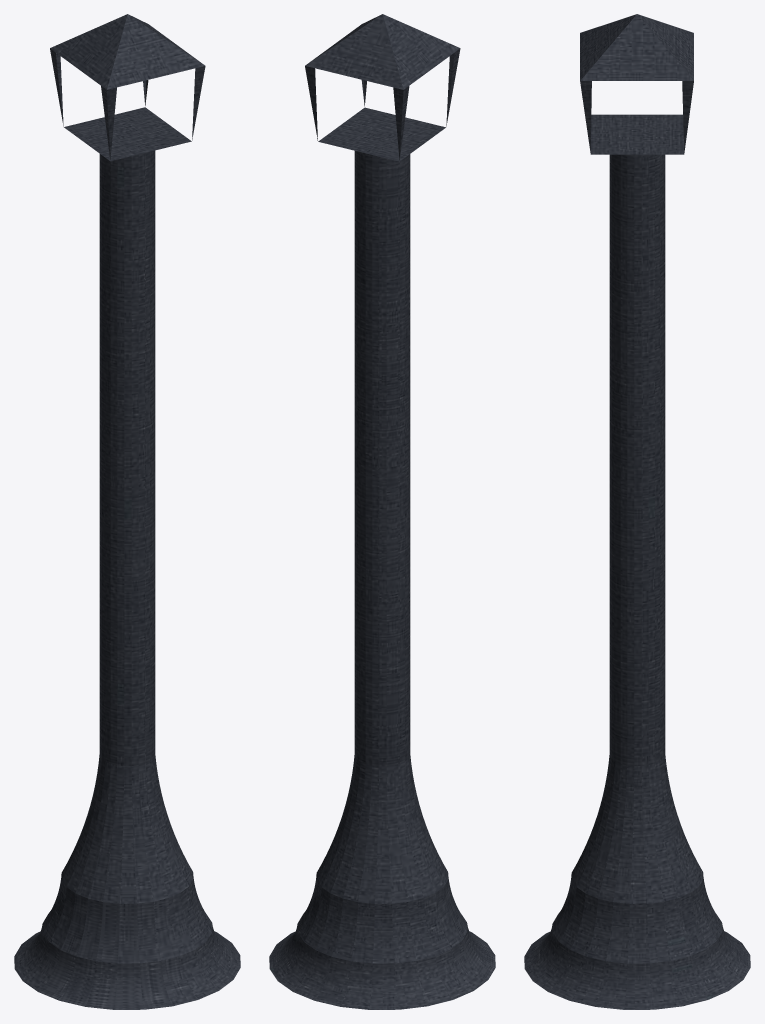
Rendered from Black Lamp Post.dae.
3 renders of one model, left to right at view 1: azimuth 30°, elevation 25°; view 2: azimuth 150°, elevation 25°; view 3: azimuth 270°, elevation 25°, orthographic.
Visible parts, largest first — view 1: SketchUp (×4); view 2: SketchUp (×4); view 3: SketchUp (×3).
Part boxes in pixels (bbox=[...]): SketchUp (×4): bbox=[14, 14, 240, 1009]; SketchUp (×4): bbox=[269, 14, 495, 1009]; SketchUp (×3): bbox=[524, 14, 750, 1009].
Bounding box in the file's own units: 23.84 × 23.84 × 110.
